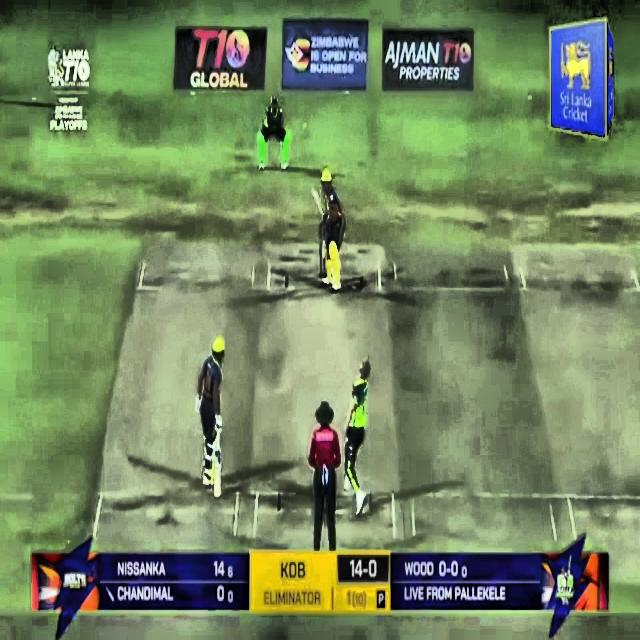Left-stump: (319, 226, 322, 278)
